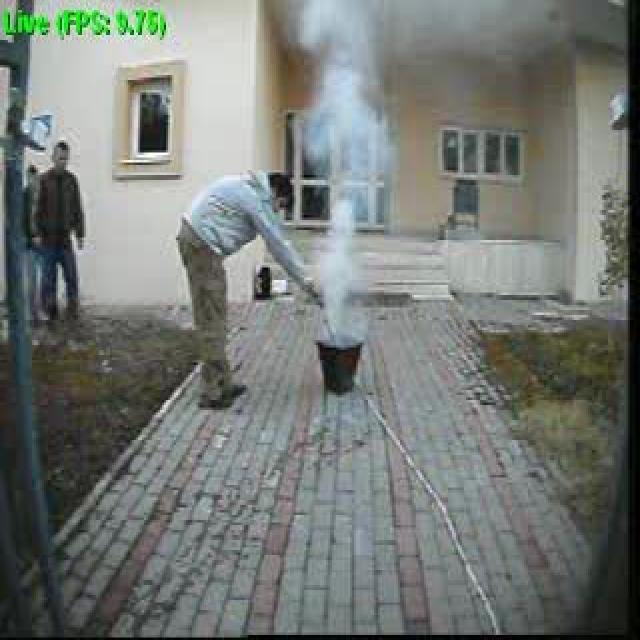Smoke: (292, 0, 371, 339)
